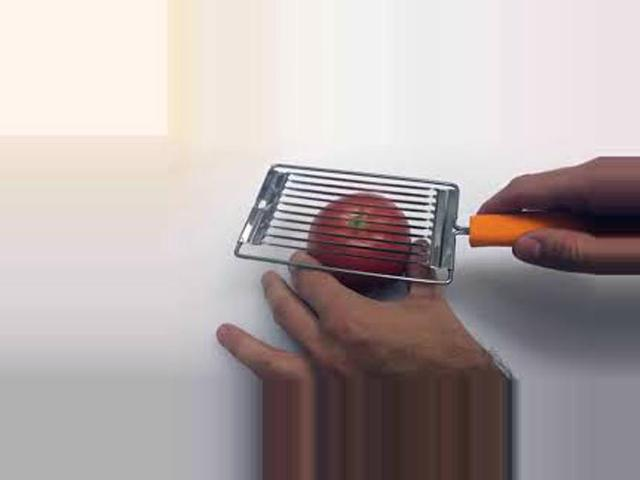tomato: (310, 194, 413, 288)
